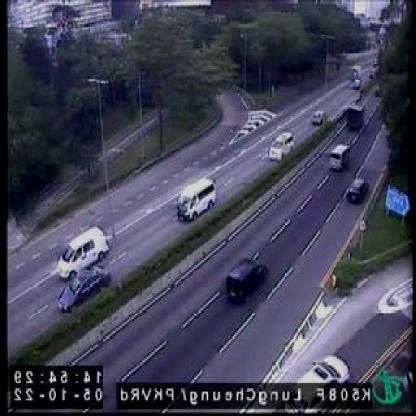Car: (57, 223, 109, 280), (58, 269, 110, 312), (226, 256, 268, 301), (178, 177, 216, 220), (271, 132, 295, 161), (330, 142, 351, 170), (347, 177, 369, 199), (314, 108, 328, 123)
Truck: (348, 102, 366, 130)
